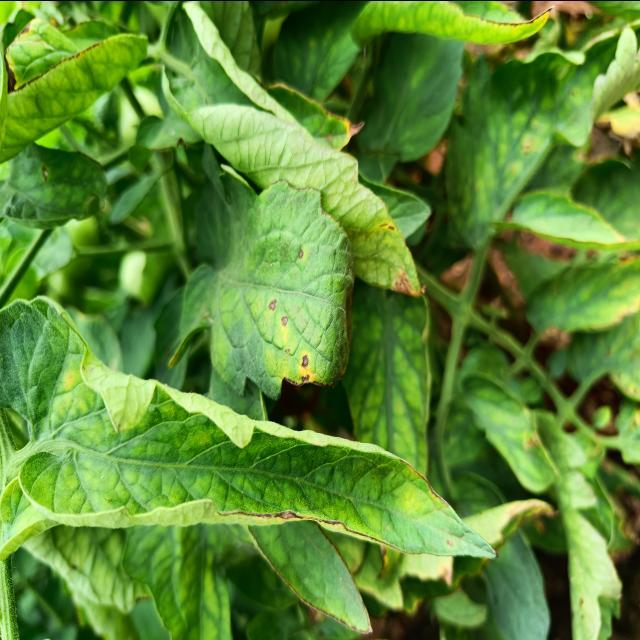Tomato mosaic virus leaf: (231, 174, 359, 402)
